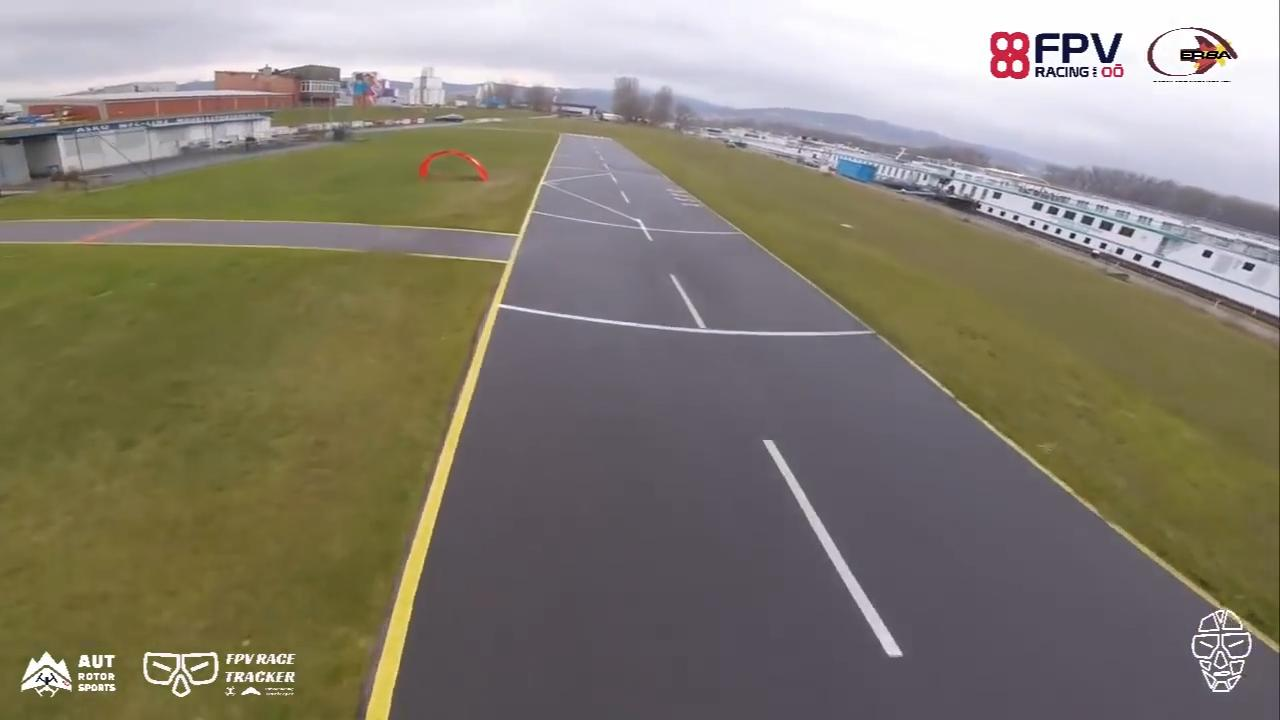gate: (417, 148, 487, 186)
